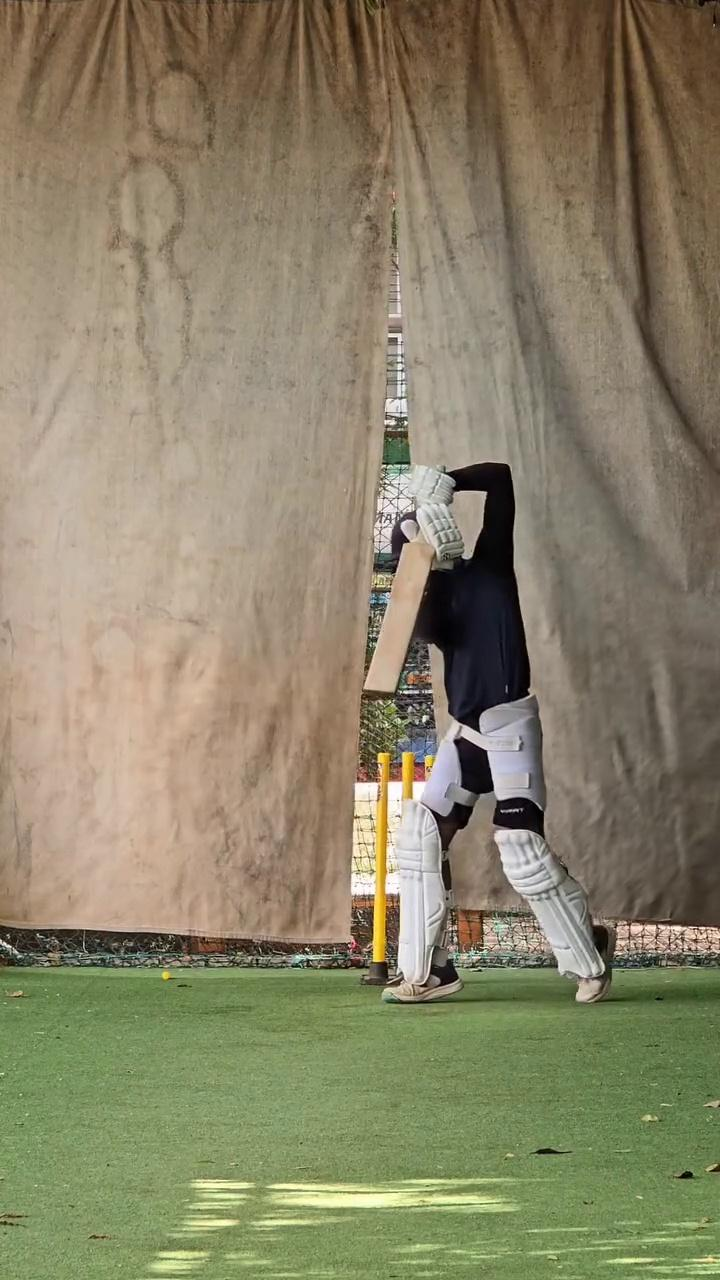bat: (359, 536, 438, 706)
